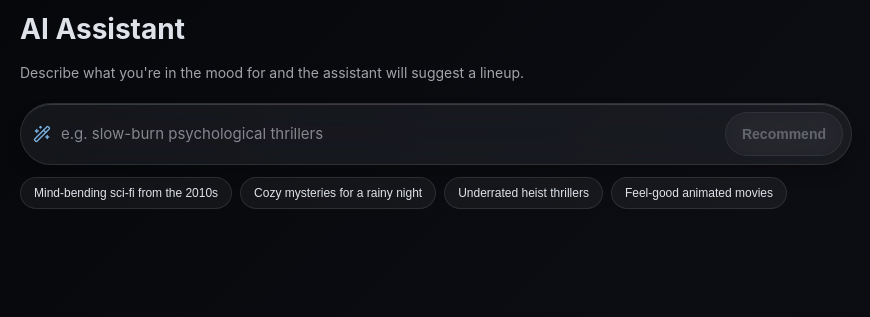
Test: Assistant - recommend flow (local provider) › clicking a suggestion chip fills the prompt and runs a recommend
Click the button "Mind-bending sci-fi from the 2010s".
click(126, 193)  # box [20,177,232,209]
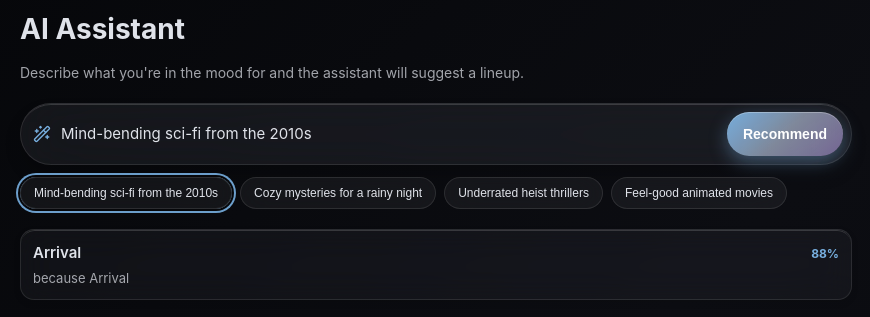
Expected: the text "Arrival" is shown, [33,242,81,264]
